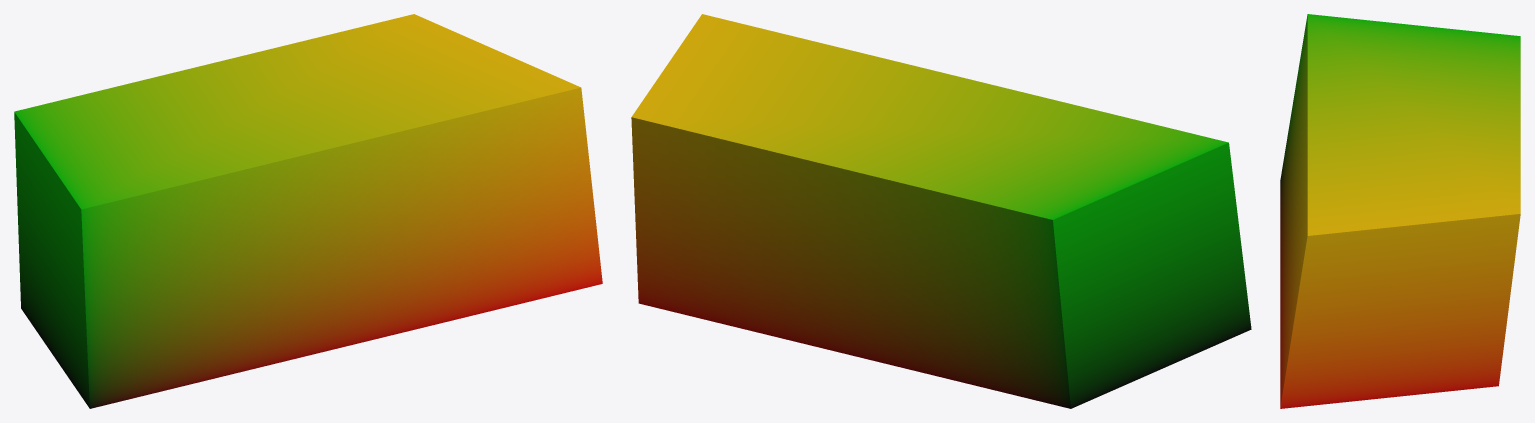
Rendered from ConeBlock-n13.fbx.
3 renders of one model, left to right at view 1: azimuth 30°, elevation 25°; view 2: azimuth 150°, elevation 25°; view 3: azimuth 270°, elevation 25°, orthographic. The views are drawn at different scales.
Parts seen in each view (by area): view 1: Cone; view 2: Cone; view 3: Cone.
Part boxes in pixels (box(x1,y1,x2,y2)): Cone: box(14, 14, 602, 408); Cone: box(631, 14, 1251, 408); Cone: box(1280, 14, 1520, 408).
Size of the model in its own units: 718 by 250 by 320.
